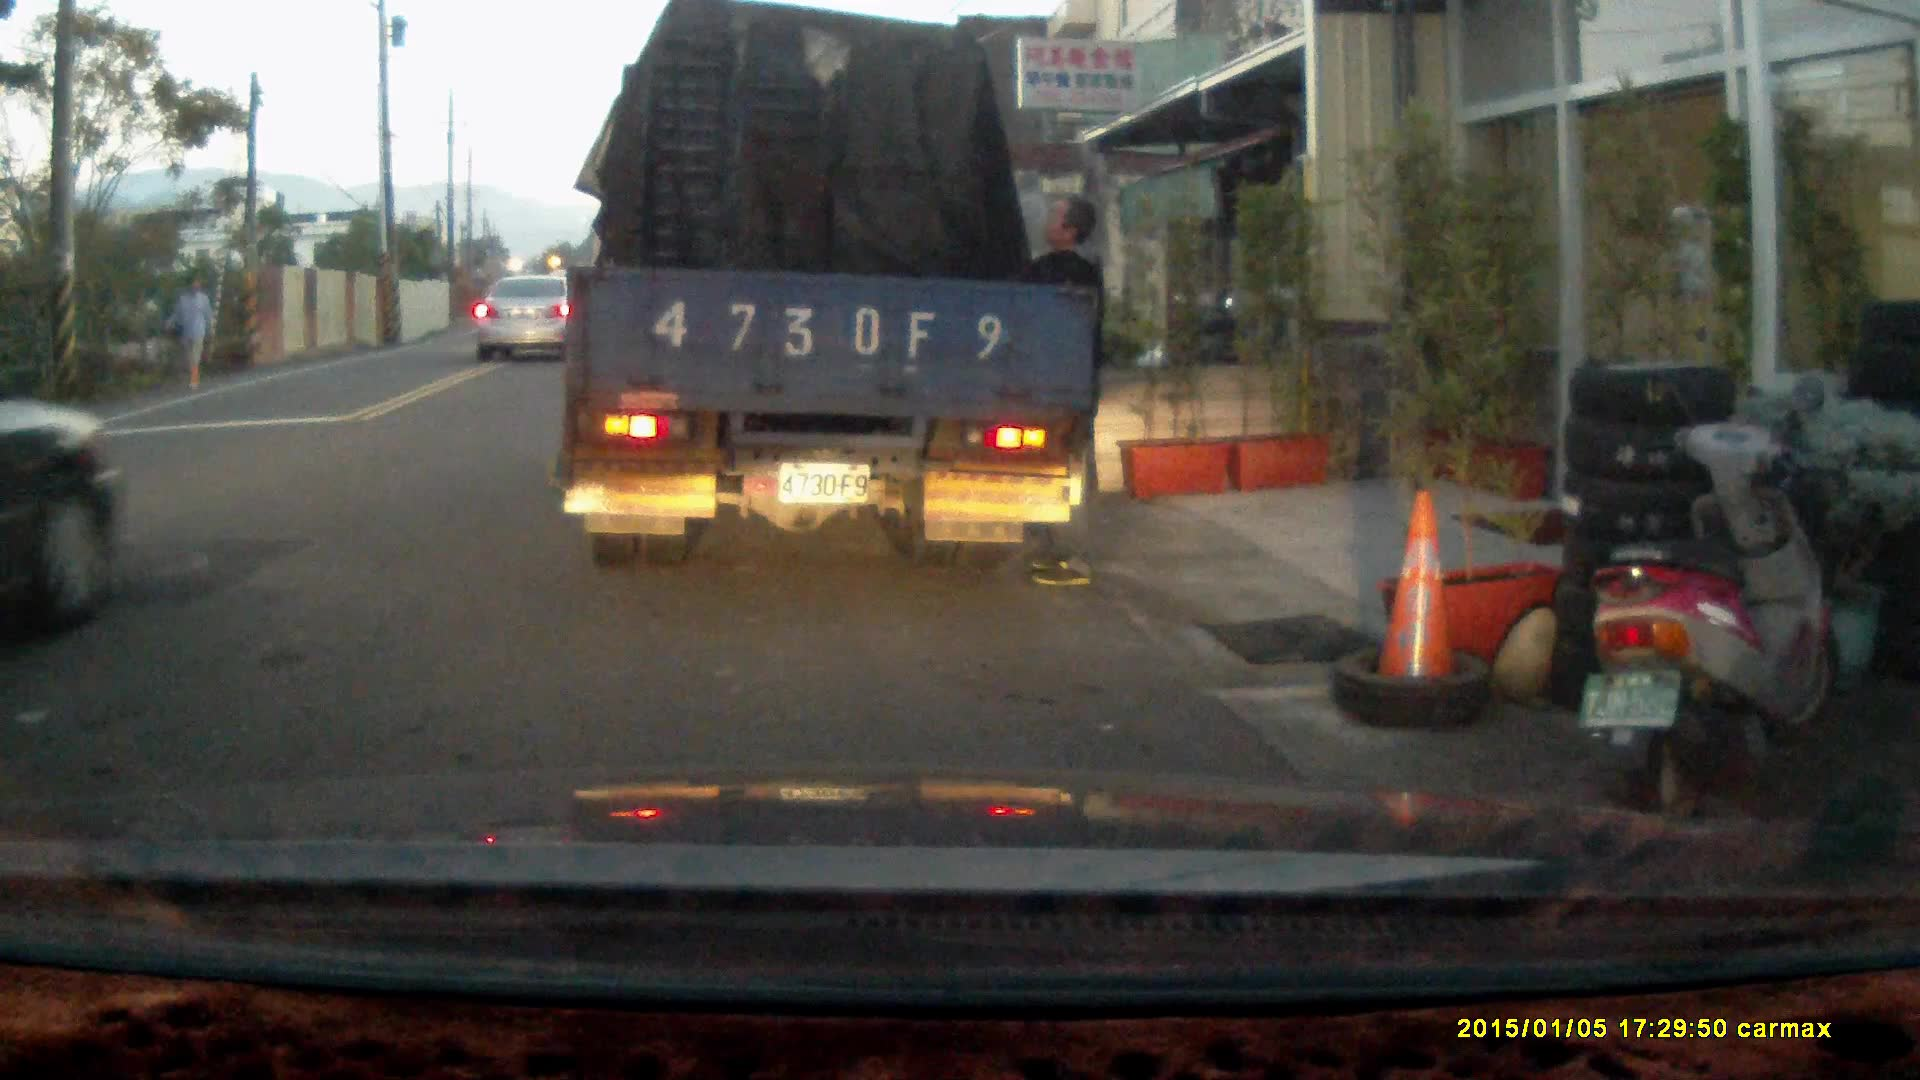pedestrian: (994, 194, 1106, 587), (168, 270, 216, 389)
vehicle: (565, 23, 1097, 572), (473, 269, 593, 361)
